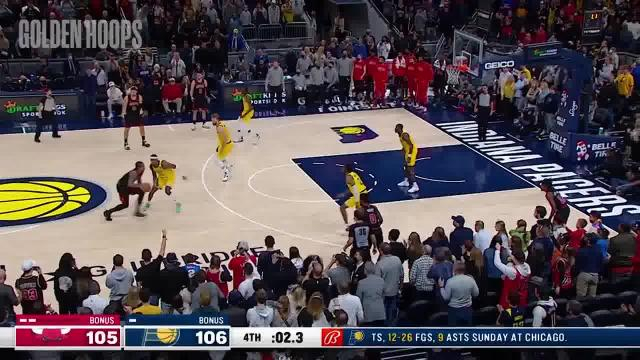ball-handler: (103, 160, 152, 223)
player: (146, 153, 186, 218), (206, 111, 238, 185), (118, 86, 151, 153), (394, 122, 421, 194), (339, 161, 366, 232), (356, 195, 384, 258), (235, 84, 261, 146), (539, 177, 571, 227), (188, 68, 211, 132)
